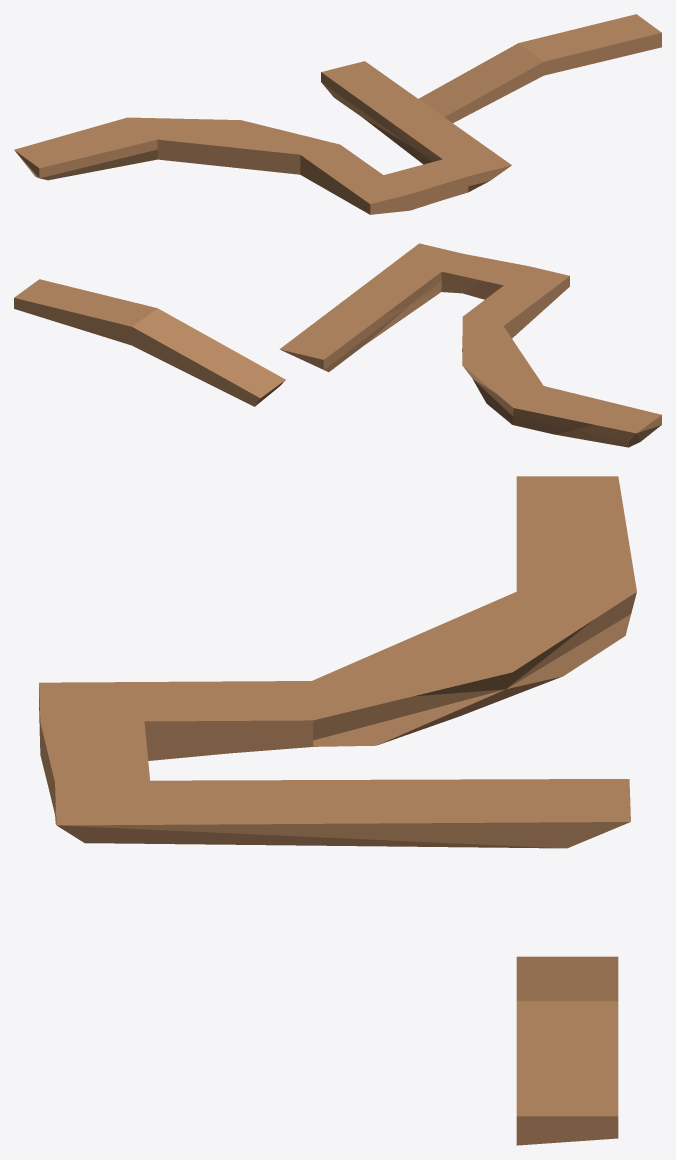
The model's file is map2.fbx.
The picture shows the model from 3 angles, top to bottom: view 1: azimuth 30°, elevation 25°; view 2: azimuth 150°, elevation 25°; view 3: azimuth 270°, elevation 25°; orthographic projection. The views are drawn at different scales.
Parts seen in each view (by area): view 1: Cube.006; view 2: Cube.006; view 3: Cube.006.
Boxes of the visible parts, bbox=[...] form: Cube.006: bbox=[14, 14, 661, 214]; Cube.006: bbox=[14, 243, 661, 447]; Cube.006: bbox=[39, 476, 636, 1145].
Size of the model in its own units: 5256 by 538 by 2186.
